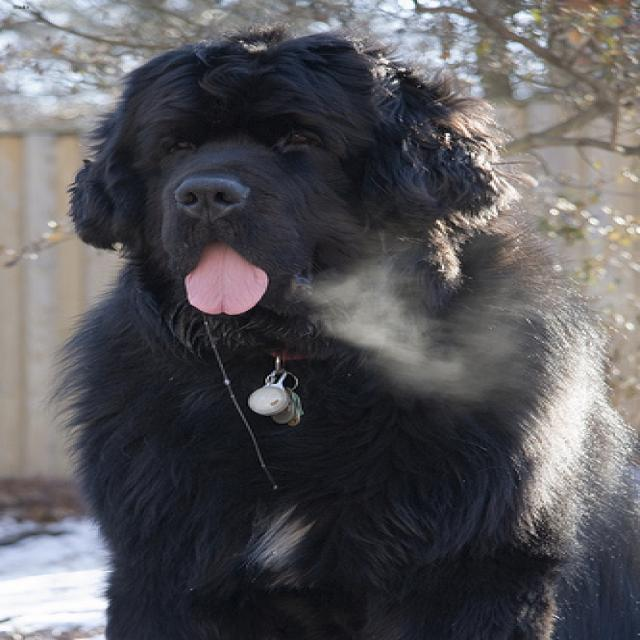dog-newfoundland: (48, 17, 636, 637)
